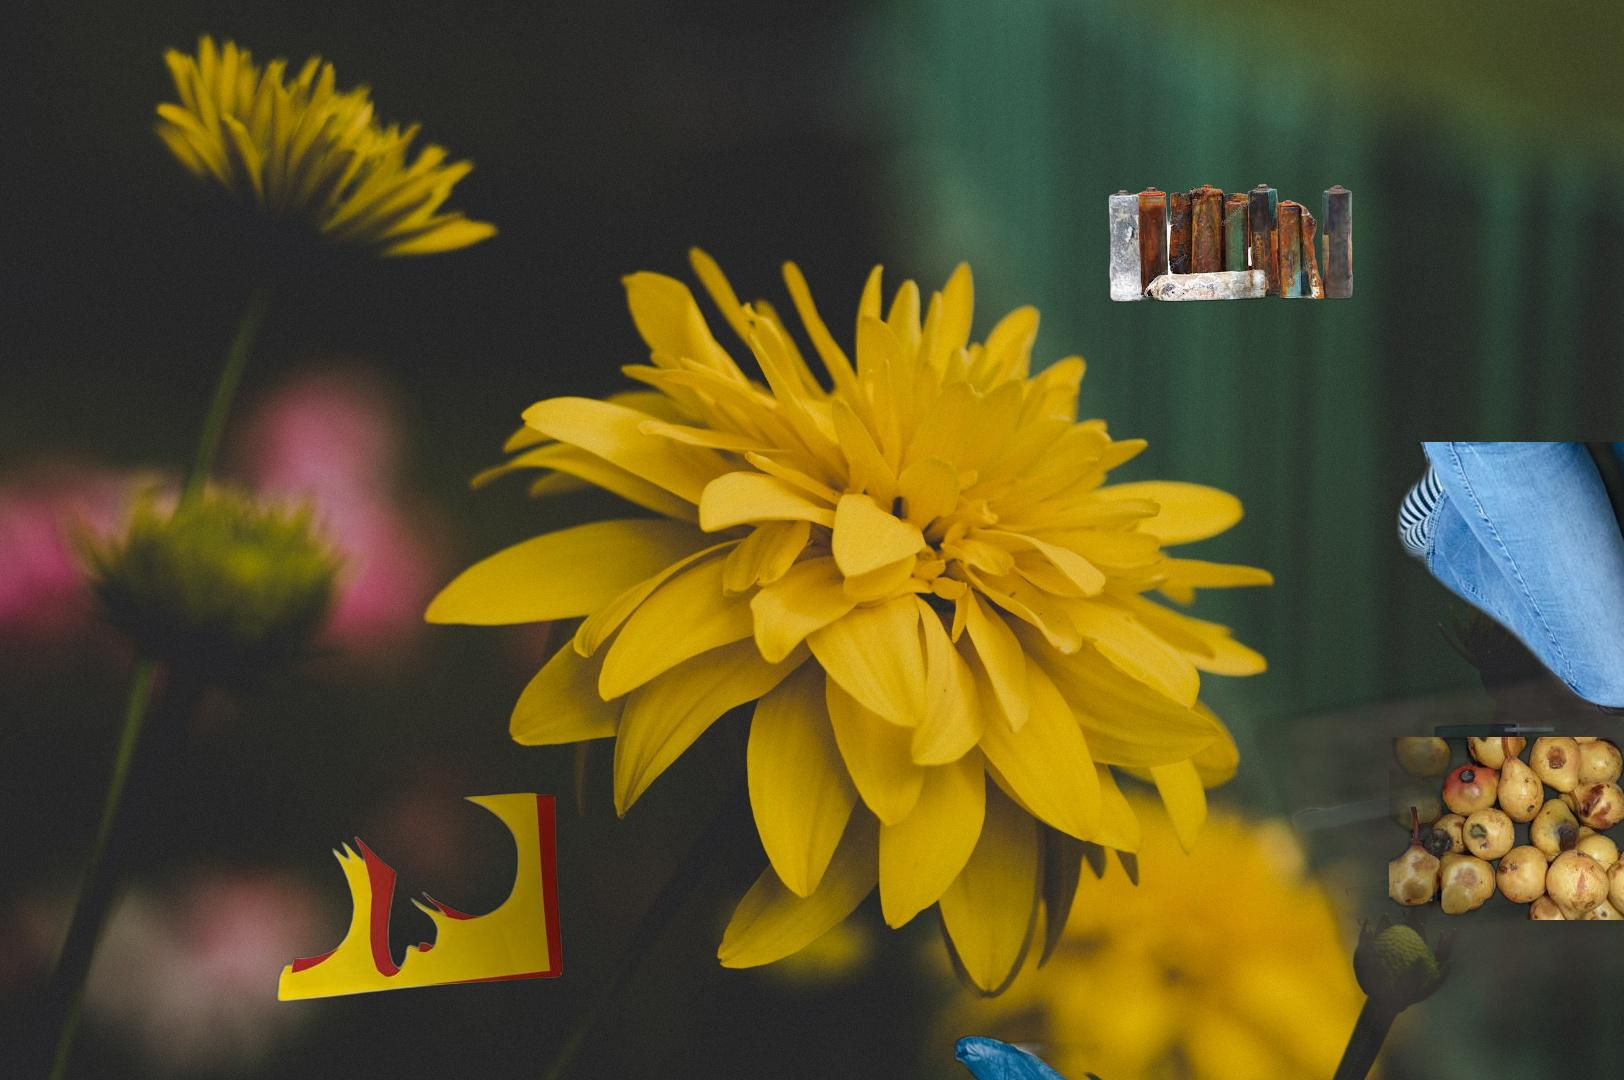battery: (1105, 181, 1356, 305)
biological: (1389, 737, 1624, 920)
paper: (272, 791, 567, 1005)
plastic-bag: (905, 1033, 1120, 1080)
trashbox-cardboard: (1243, 442, 1624, 1080)
